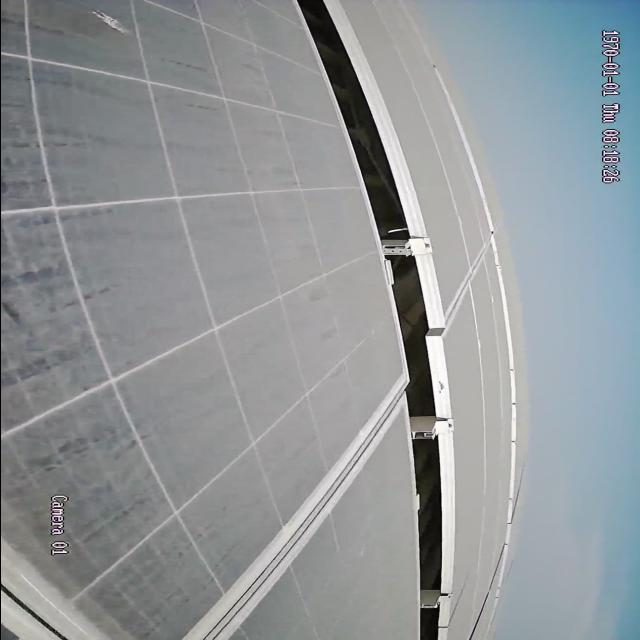interior panel: (189, 399, 399, 636)
outher panel: (292, 0, 457, 640)
